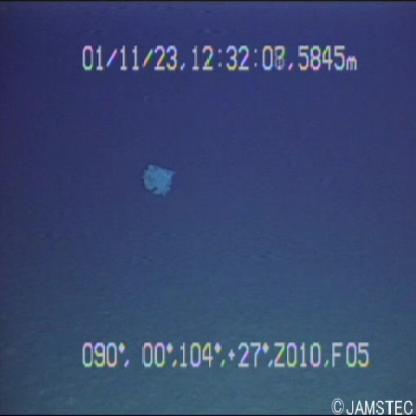Rác: (131, 148, 185, 207)
